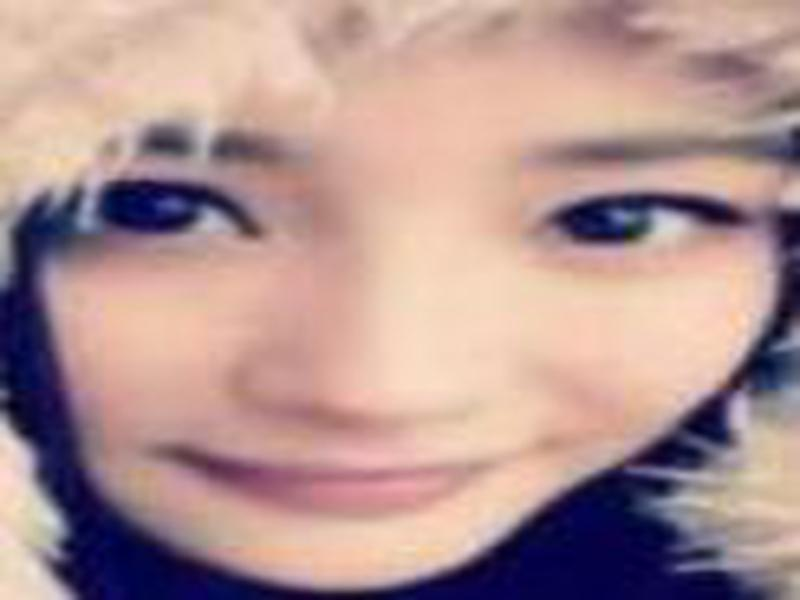without_mask: (31, 53, 774, 582)
